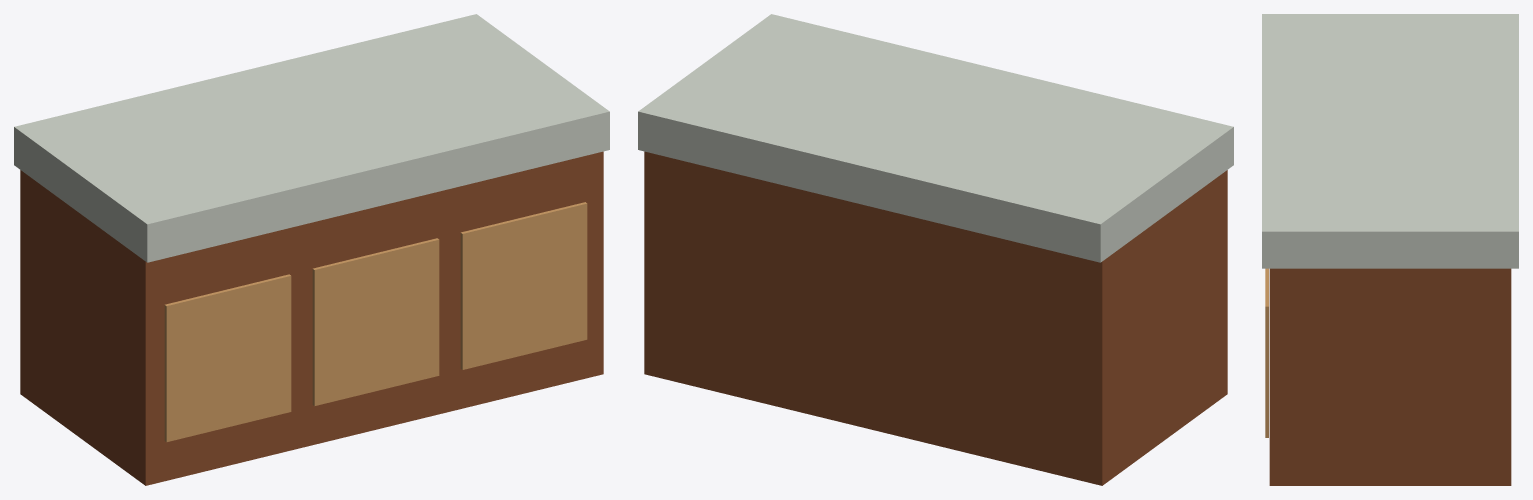
File: desk_double.glb
3 views of the same model, side by side, from view 1: azimuth 30°, elevation 25°; view 2: azimuth 150°, elevation 25°; view 3: azimuth 270°, elevation 25° (orthographic). The views are drawn at different scales.
Size of the model in its own units: 1.2 by 0.6561 by 0.598.
Materials: 1 (1 with a texture image).
